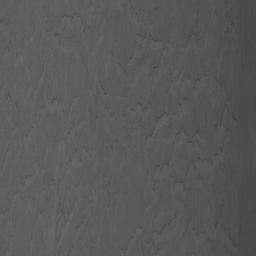Silk spot: (0, 0, 225, 256), (119, 140, 241, 256), (176, 10, 208, 56), (214, 98, 240, 131), (0, 78, 18, 114), (224, 21, 241, 34)
